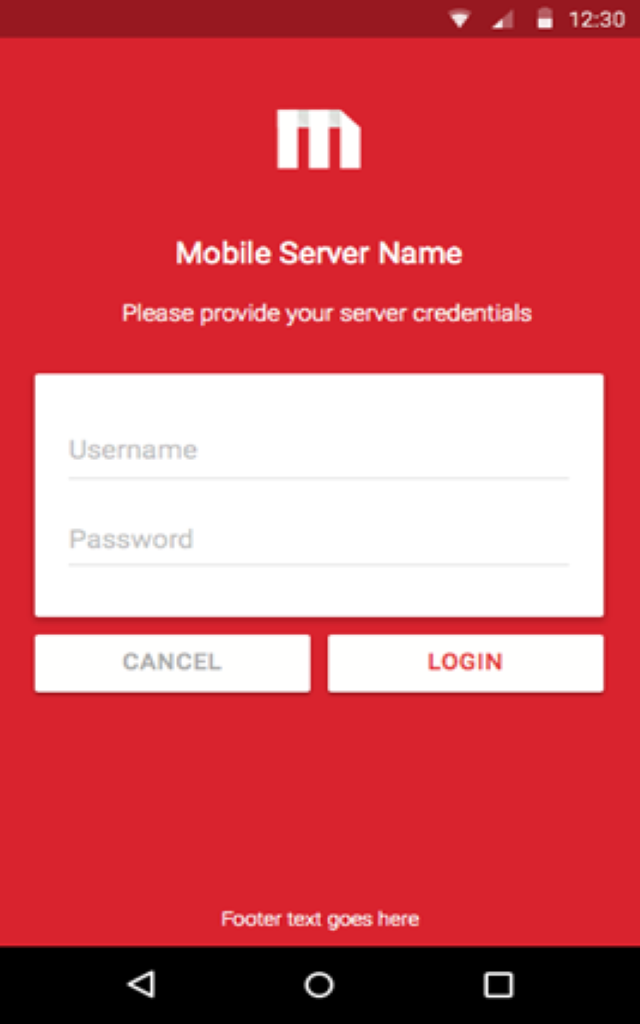button: (34, 635, 313, 694), (330, 632, 603, 689)
label_Login: (420, 646, 508, 678)
label_Username: (66, 433, 206, 469)
label_password: (67, 525, 202, 553)
textbox: (61, 514, 580, 564), (63, 424, 578, 474)
textbox_Password: (59, 513, 580, 566)
textbox_username: (63, 419, 580, 475)
